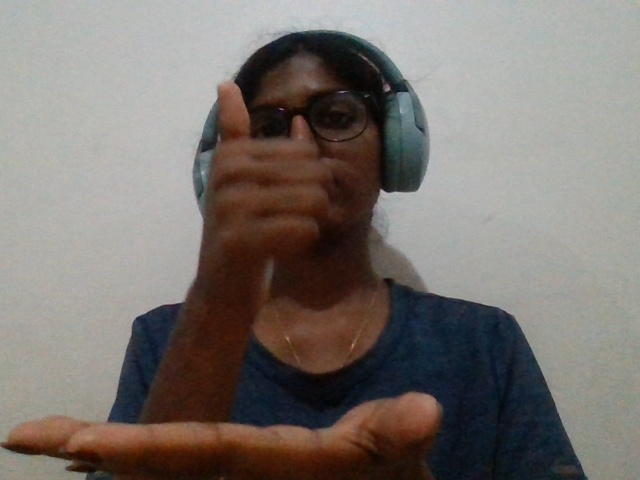Help: (1, 52, 496, 480)
